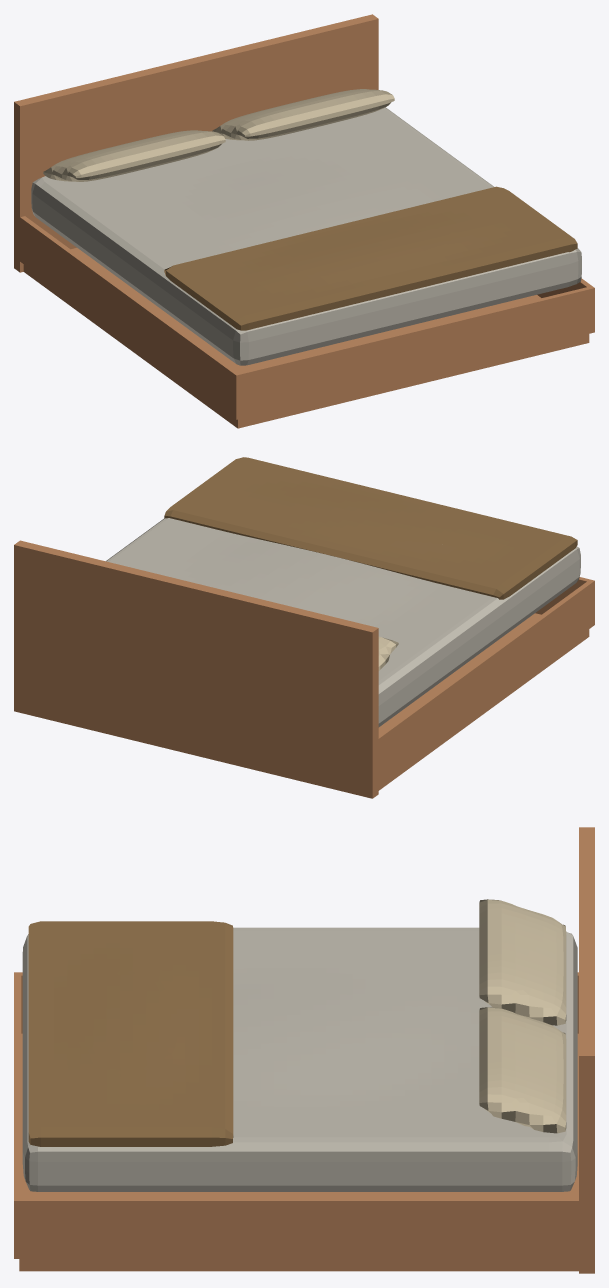
Rendered from CAL-PLT-king.glb.
The picture shows the model from 3 angles, top to bottom: view 1: azimuth 30°, elevation 25°; view 2: azimuth 150°, elevation 25°; view 3: azimuth 270°, elevation 25°; orthographic projection. The views are drawn at different scales.
Parts seen in each view (by area): view 1: mattress:pbr, throw:pbr, head:pbr, foot:pbr, rail-l:pbr, plinth:pbr, pillow-l:pbr, pillow-r:pbr; view 2: head:pbr, mattress:pbr, throw:pbr, rail-l:pbr, plinth:pbr; view 3: mattress:pbr, throw:pbr, rail-r:pbr, plinth:pbr, pillow-r:pbr, pillow-l:pbr, head:pbr, foot:pbr.
Part boxes in pixels (x1=…): mattress:pbr: x1=31, y1=107, x2=581, y2=365; throw:pbr: x1=164, y1=186, x2=577, y2=330; head:pbr: x1=14, y1=14, x2=378, y2=272; foot:pbr: x1=238, y1=287, x2=589, y2=418; rail-l:pbr: x1=20, y1=216, x2=241, y2=419; plinth:pbr: x1=23, y1=248, x2=589, y2=428; pillow-l:pbr: x1=43, y1=130, x2=225, y2=181; pillow-r:pbr: x1=212, y1=89, x2=394, y2=140; head:pbr: x1=14, y1=540, x2=378, y2=798; mattress:pbr: x1=106, y1=518, x2=580, y2=727; throw:pbr: x1=164, y1=457, x2=577, y2=599; rail-l:pbr: x1=378, y1=579, x2=594, y2=782; plinth:pbr: x1=378, y1=613, x2=589, y2=790; mattress:pbr: x1=22, y1=927, x2=577, y2=1191; throw:pbr: x1=28, y1=921, x2=233, y2=1146; rail-r:pbr: x1=14, y1=1198, x2=578, y2=1258; plinth:pbr: x1=19, y1=1033, x2=578, y2=1271; pillow-r:pbr: x1=479, y1=1007, x2=566, y2=1133; pillow-l:pbr: x1=479, y1=899, x2=566, y2=1025; head:pbr: x1=579, y1=827, x2=594, y2=1273; foot:pbr: x1=14, y1=975, x2=21, y2=1197.
Bounding box in the file's own units: 2.03 × 0.9 × 2.18.
